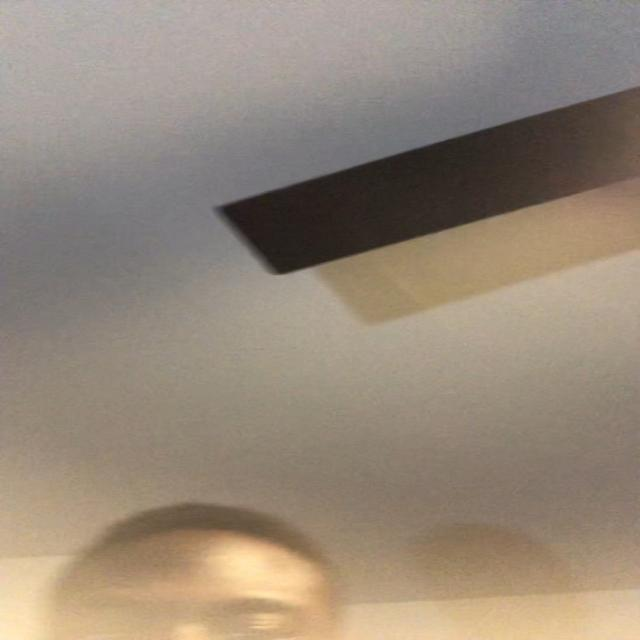face: (45, 527, 345, 640)
